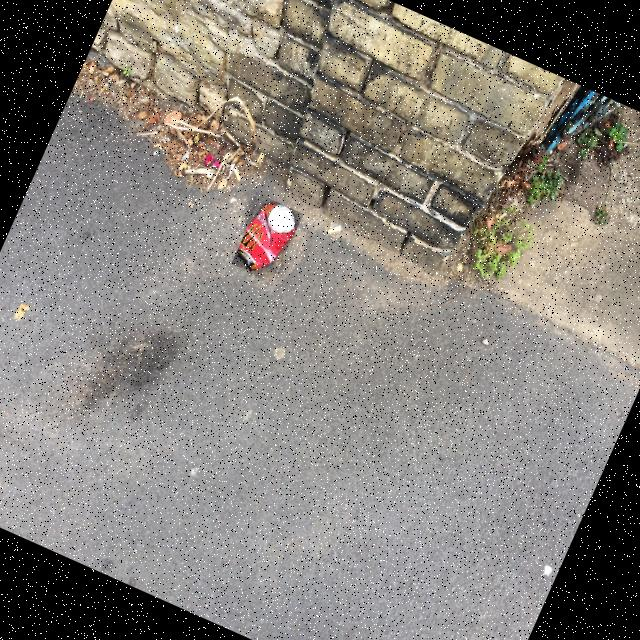Cigarette: (328, 226, 341, 235), (234, 166, 241, 181), (257, 153, 263, 164), (499, 214, 507, 220), (488, 247, 492, 252)
Drink can: (238, 205, 295, 273)
